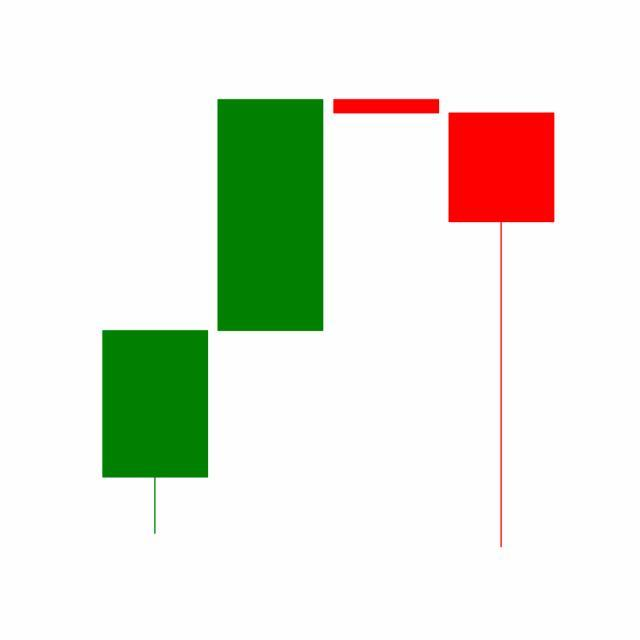Hammer: (444, 108, 560, 553)
